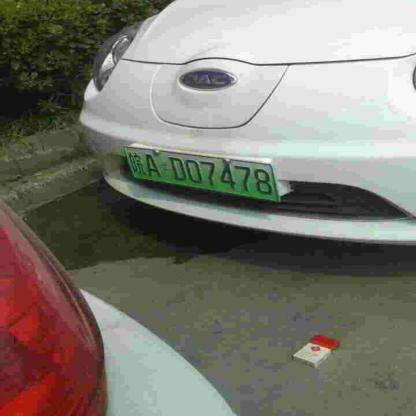lp: (124, 146, 279, 201)
